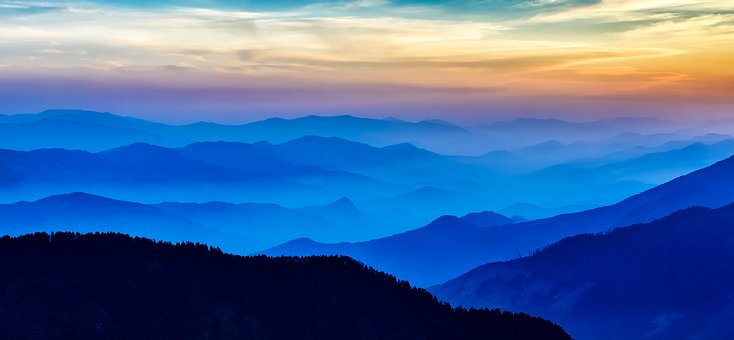mountain: (16, 110, 727, 340)
sky: (4, 6, 730, 97)
